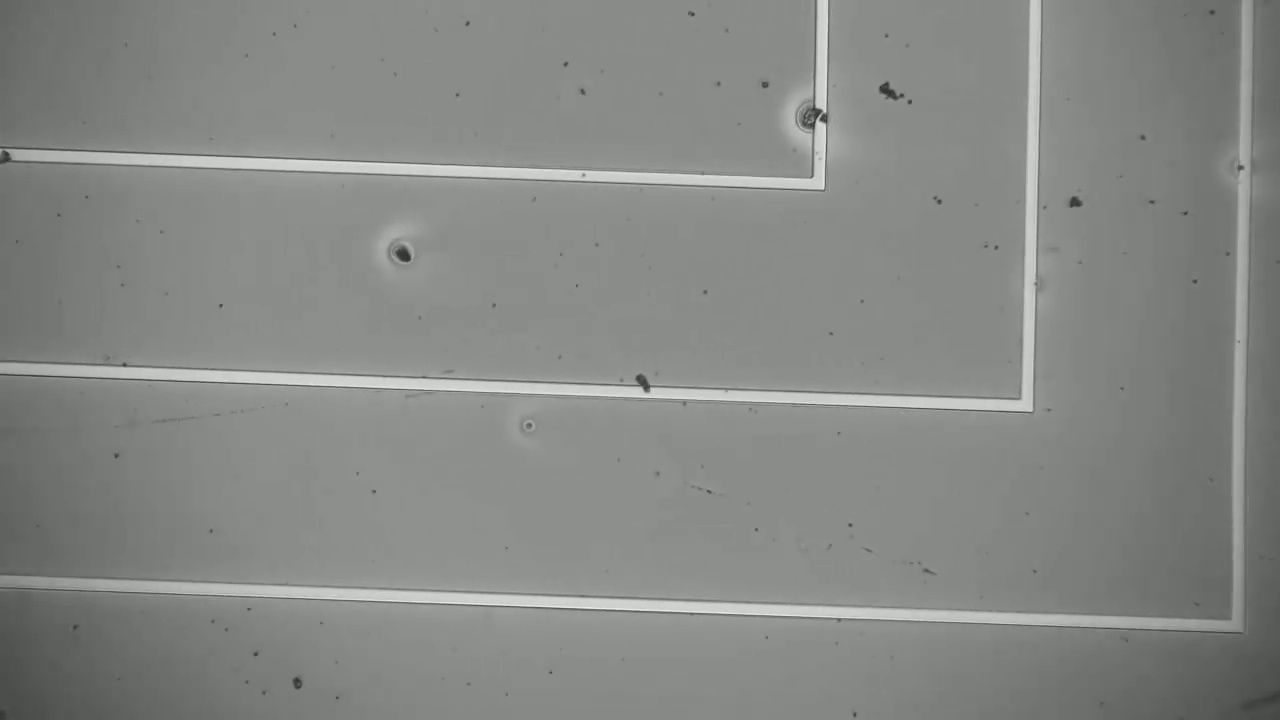stains_enbedded: (800, 90, 829, 139), (629, 369, 657, 412), (1226, 149, 1259, 184), (0, 135, 19, 173)
